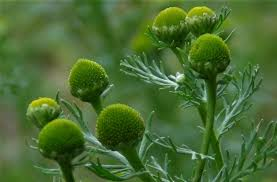pineple: (146, 32, 262, 124)
